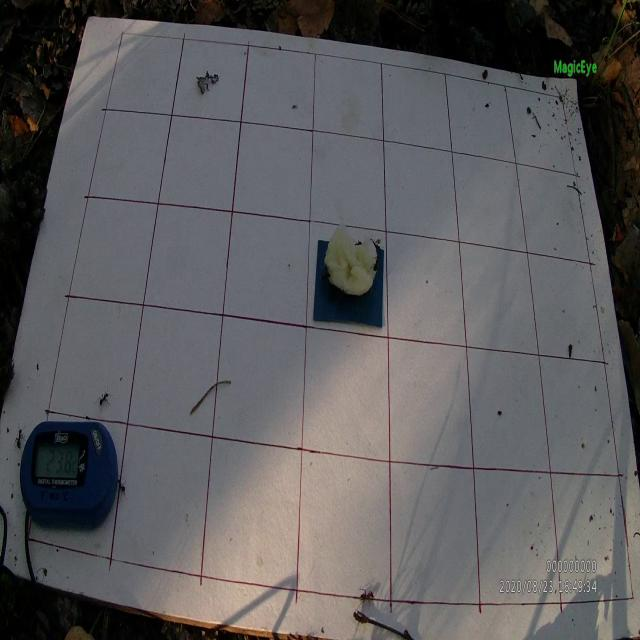Ant: (356, 586, 375, 612), (95, 386, 112, 412), (13, 425, 28, 448), (368, 255, 380, 280), (117, 474, 127, 503)
